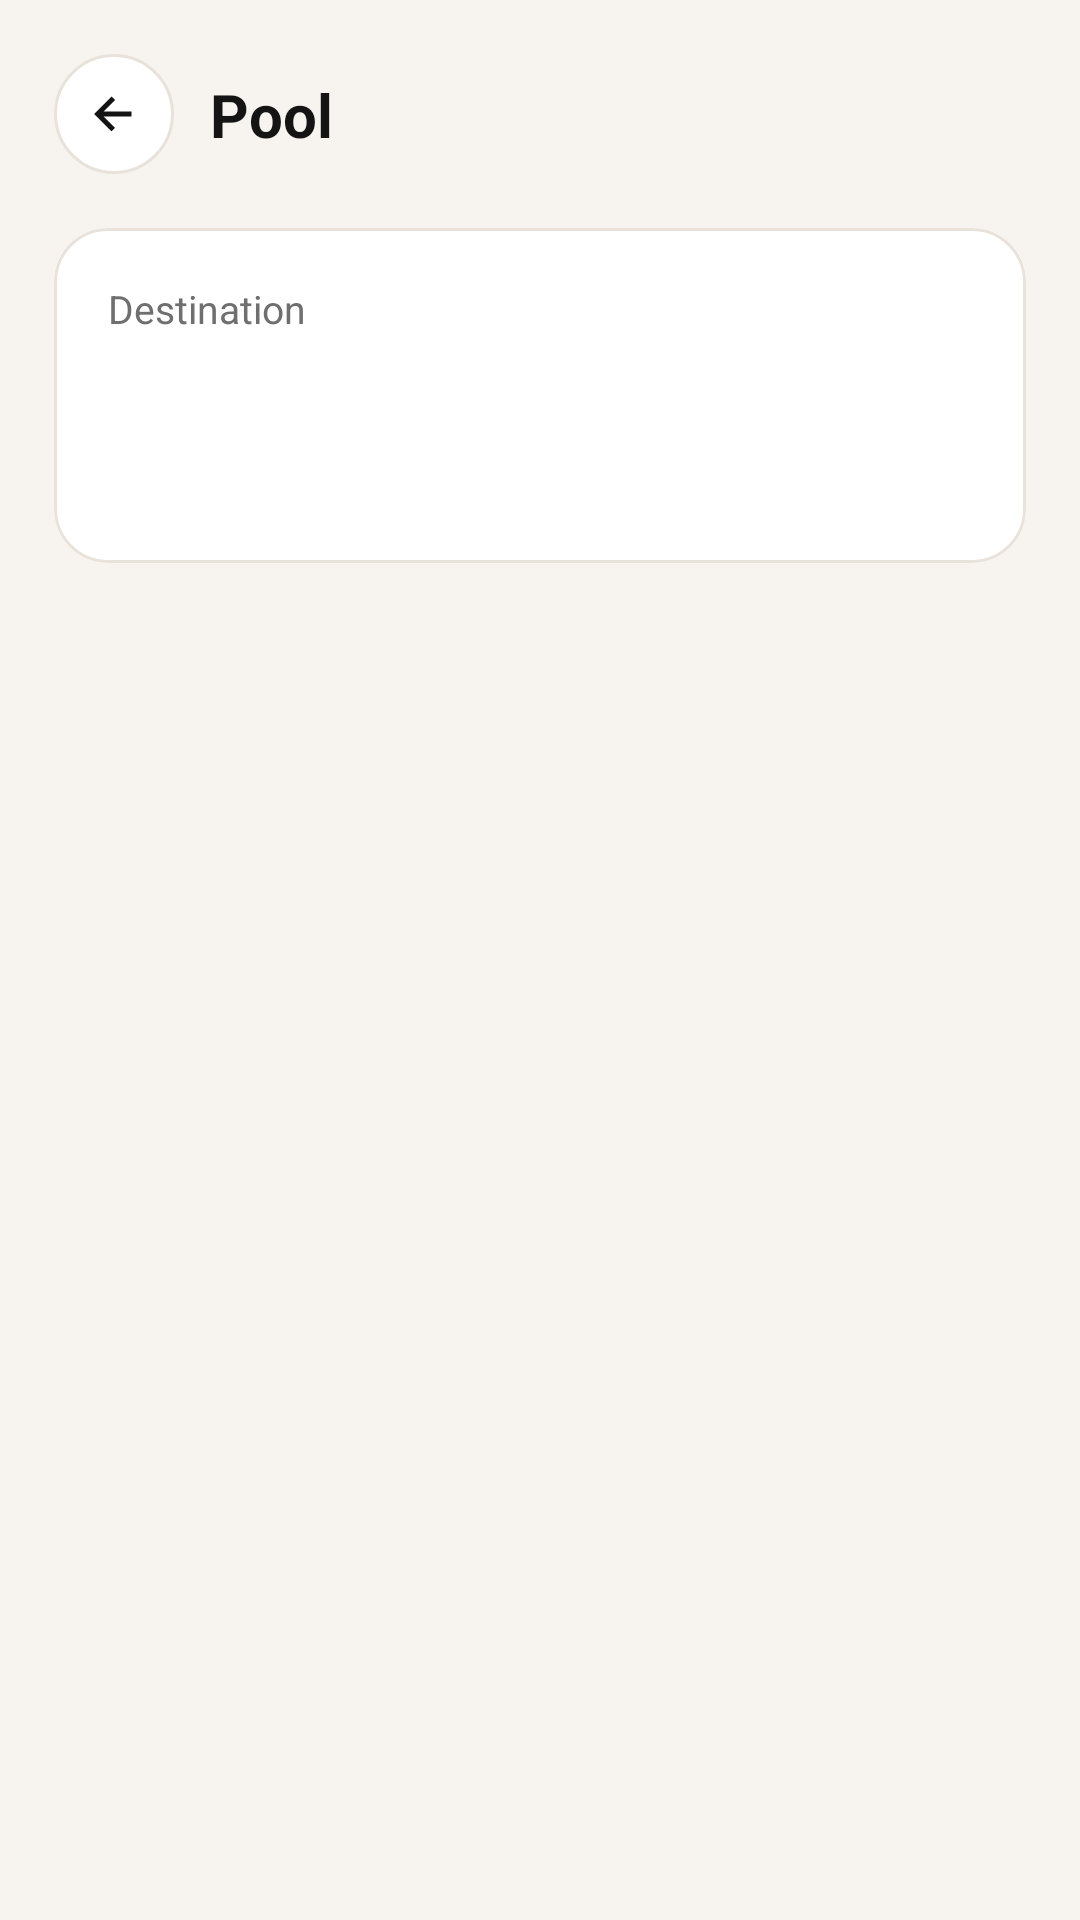

Named icons in this screenshot (1080*1920) and their bounding boxes, box(x1, y1, x2, y2):
back: box(54, 54, 174, 174)
